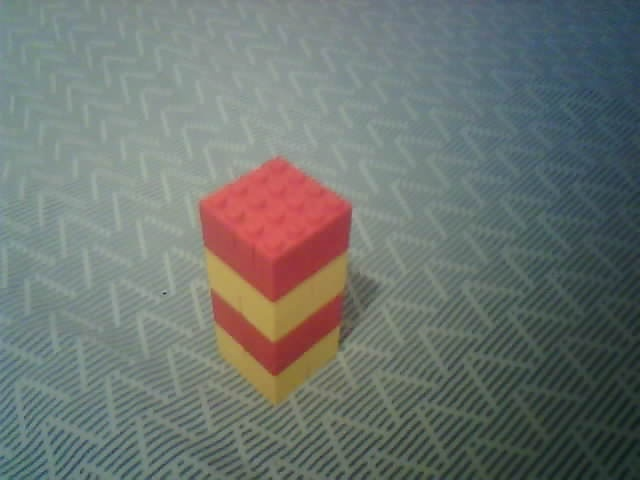lego: (196, 157, 353, 406)
